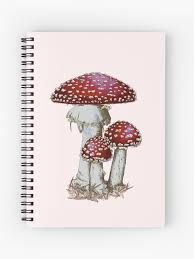Amanita muscaria: (46, 67, 139, 143), (103, 114, 145, 190), (77, 133, 113, 196)
